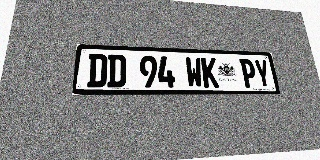4: (157, 56, 175, 88)
9: (140, 55, 158, 88)
D: (87, 54, 107, 87), (107, 54, 126, 88)
K: (201, 57, 219, 88)
P: (239, 59, 258, 88)
W: (185, 57, 203, 88)
Y: (253, 59, 272, 88)
